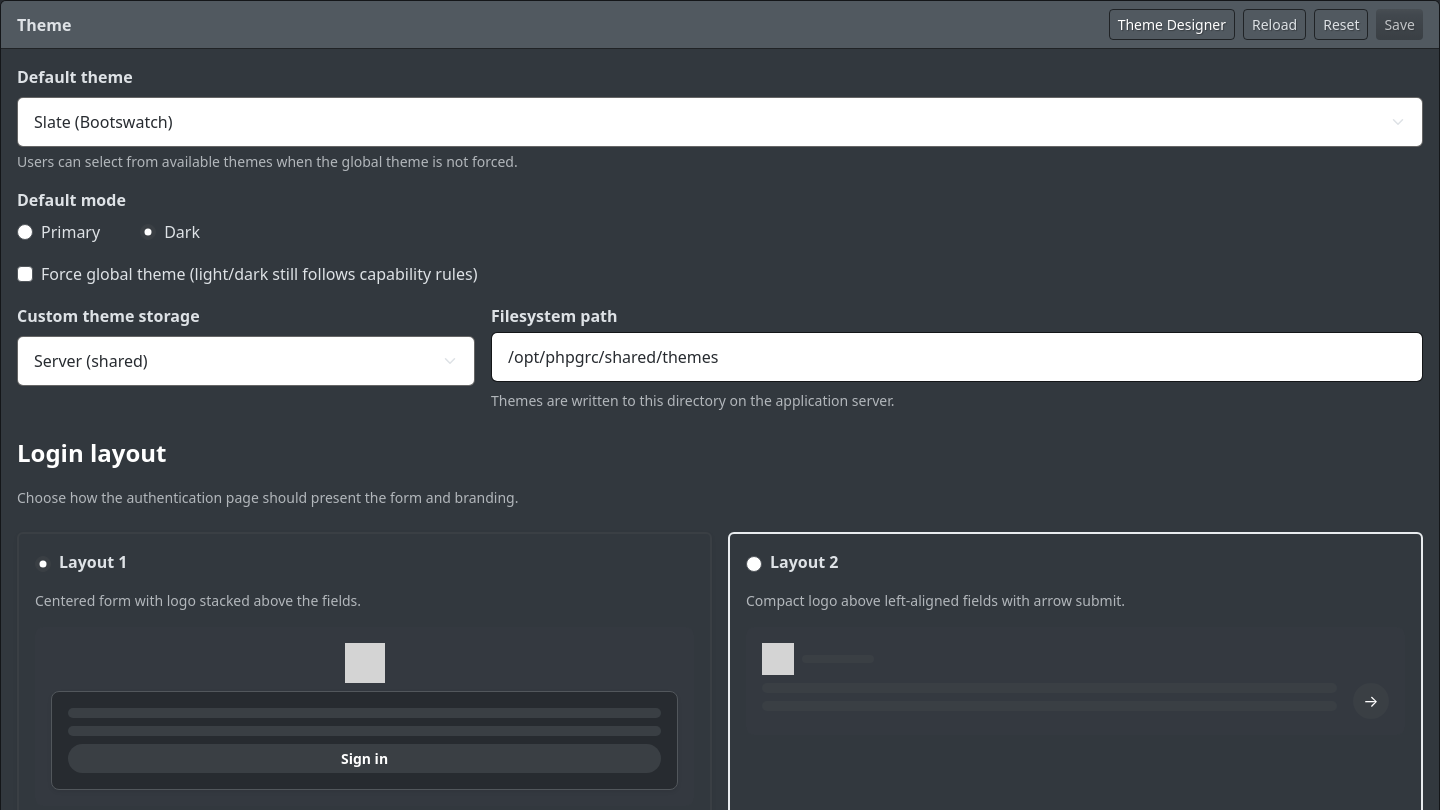
Test: ThemeConfigurator › submits updated theme settings with the current ETag
Select "Flatly (Bootswatch)" in the dropdown labelled "Default theme". click: (720, 122)
box: [17,97,1423,147]
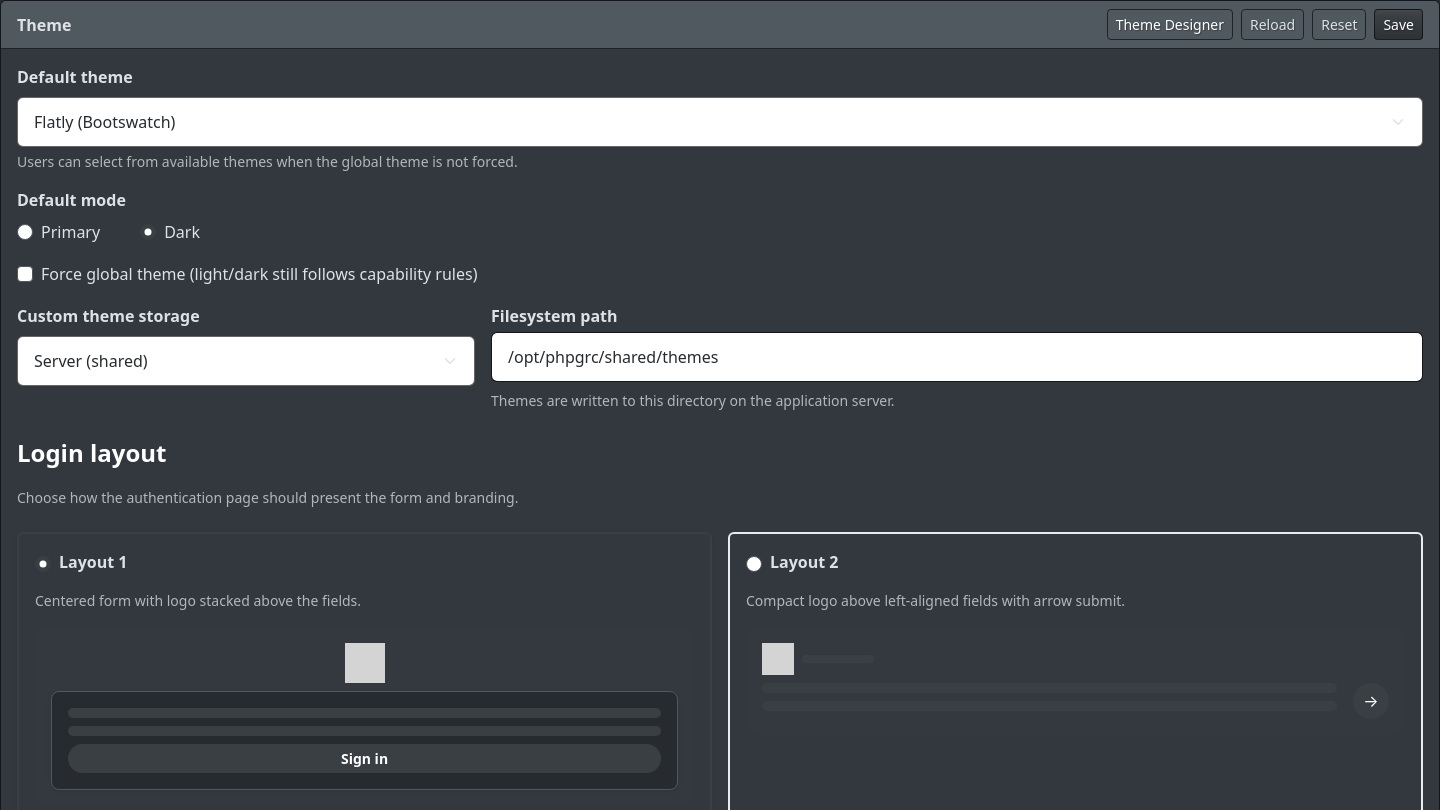
Click the checkbox labelled "Force global theme (light/dark still follows capability rules)". click: (25, 274)
box: [17,266,33,282]
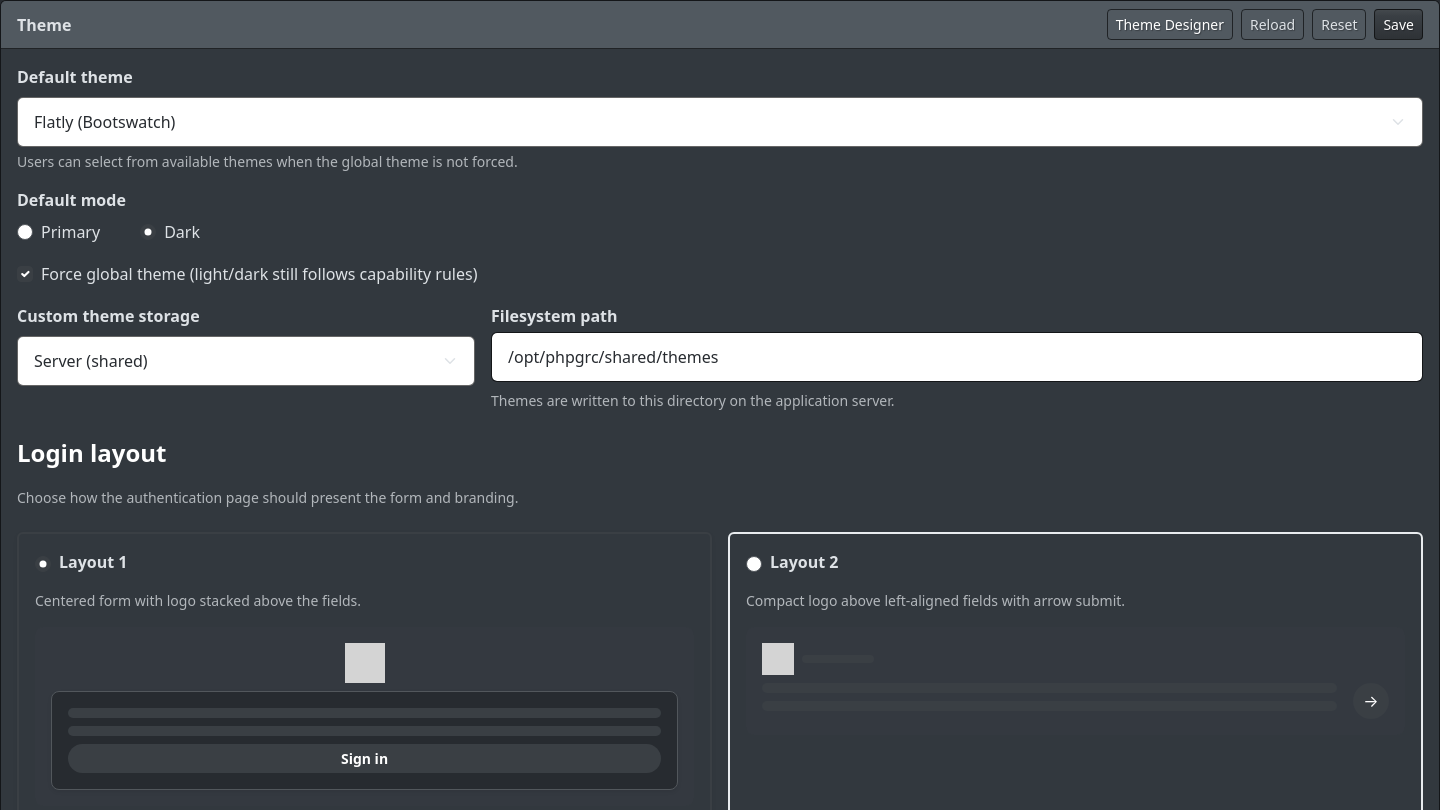
Click the button "Save". click: (1399, 24)
box: [1374,9,1423,40]
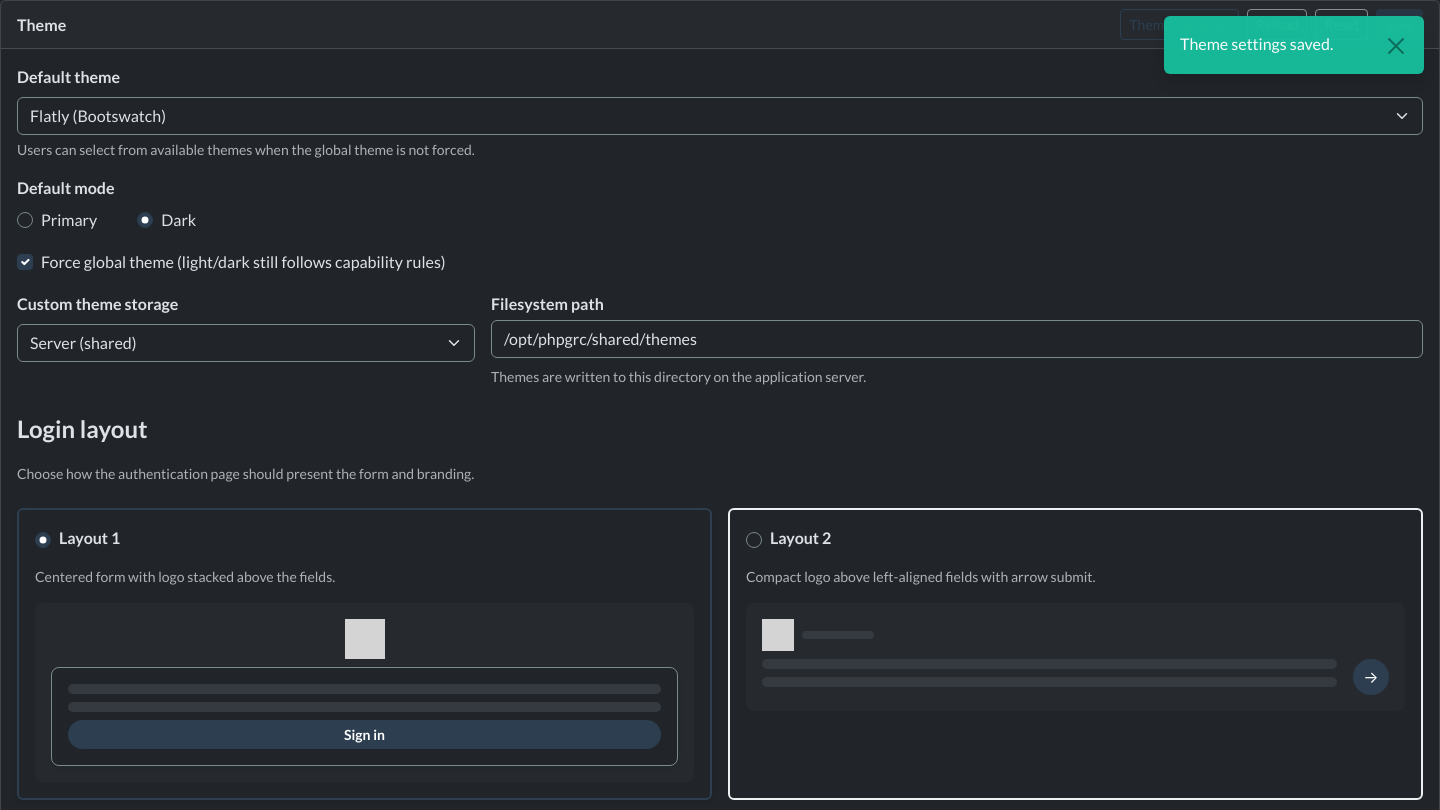
Now the text "Theme settings saved." is shown, box [1180,34,1333,53]
